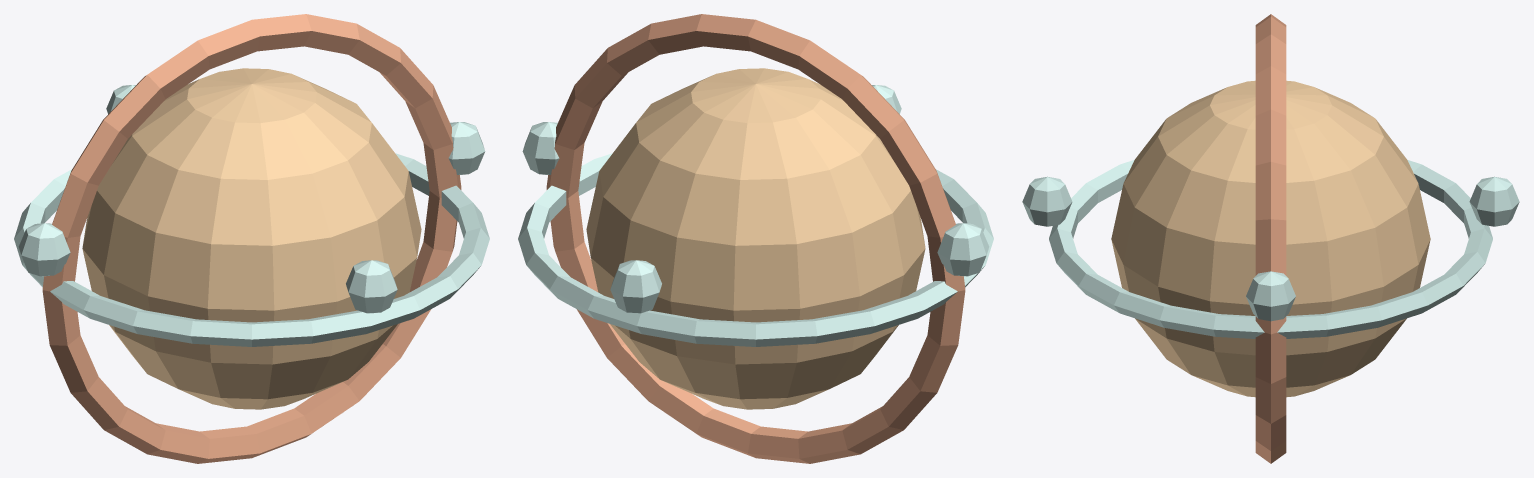
File: orbe_devuelto.glb
The picture shows the model from 3 angles, left to right: view 1: azimuth 30°, elevation 25°; view 2: azimuth 150°, elevation 25°; view 3: azimuth 270°, elevation 25°; orthographic projection. The views are drawn at different scales.
Visible parts, largest first — view 1: orbe_devuelto; view 2: orbe_devuelto; view 3: orbe_devuelto.
Boxes of the visible parts, x1,y1,x2,y2 form: orbe_devuelto: (14,14,489,463); orbe_devuelto: (518,14,993,463); orbe_devuelto: (1022,14,1519,463).
Size of the model in its own units: 1.09 by 0.99 by 1.09.
